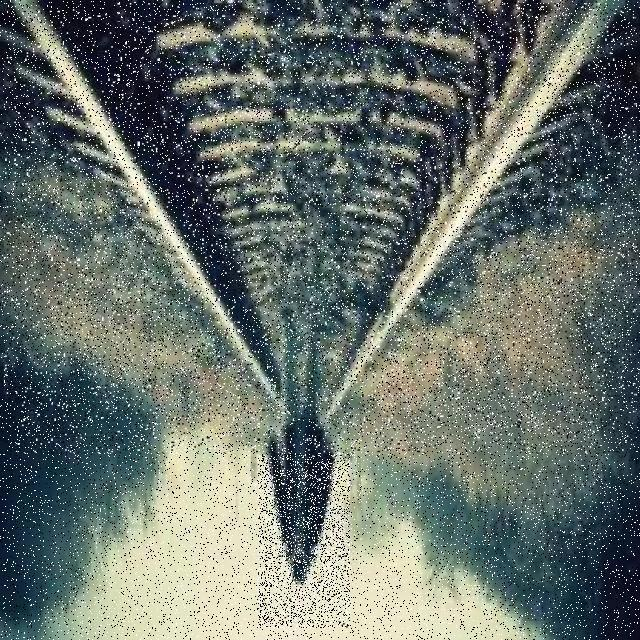danger: (258, 298, 350, 628)
rail: (5, 3, 635, 453)
